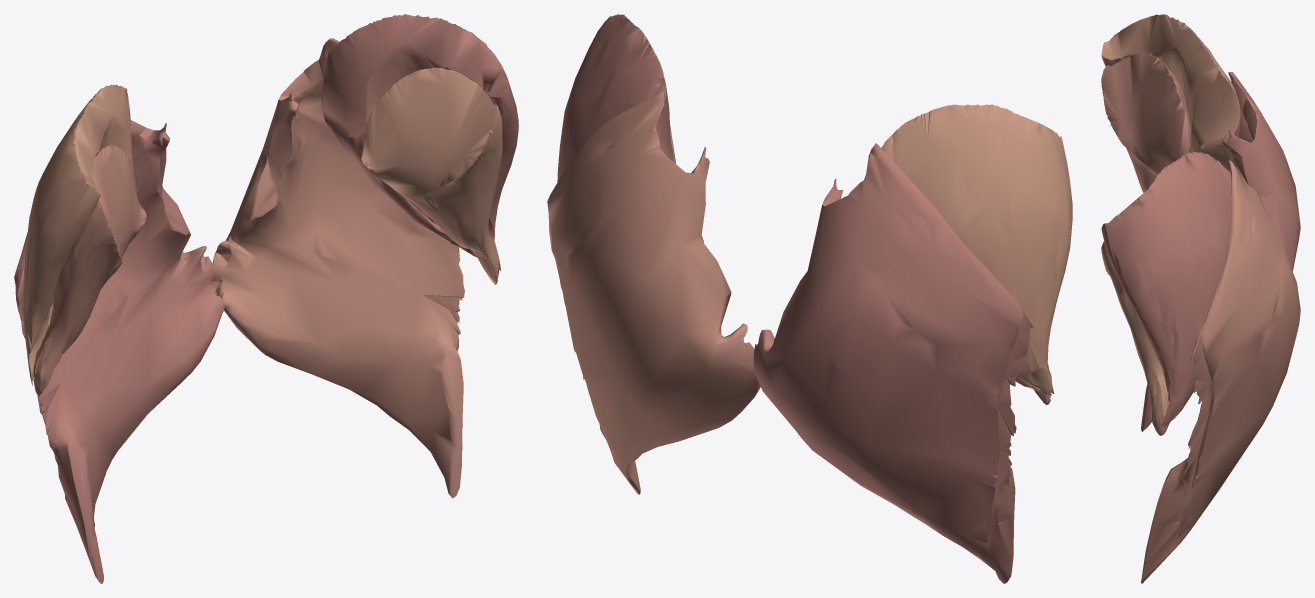
File: gluteal-muscles.glb
The picture shows the model from 3 angles, left to right: view 1: azimuth 30°, elevation 25°; view 2: azimuth 150°, elevation 25°; view 3: azimuth 270°, elevation 25°; orthographic projection. The views are drawn at different scales.
Visible parts, largest first — view 1: FJ1418M Left gluteus maximus, FJ1418 Right gluteus maximus, FJ1420M Left gluteus minimus, FJ1419M Left gluteus medius, FJ1419 Right gluteus medius, FJ1420 Right gluteus minimus; view 2: FJ1418 Right gluteus maximus, FJ1418M Left gluteus maximus, FJ1419 Right gluteus medius, FJ1419M Left gluteus medius; view 3: FJ1418M Left gluteus maximus, FJ1419M Left gluteus medius, FJ1419 Right gluteus medius, FJ1420 Right gluteus minimus, FJ1418 Right gluteus maximus, FJ1420M Left gluteus minimus.
Part boxes in pixels (box(x1,y1,x2,y2)): FJ1418M Left gluteus maximus: box(212, 38, 464, 498); FJ1418 Right gluteus maximus: box(14, 88, 225, 583); FJ1420M Left gluteus minimus: box(361, 67, 502, 284); FJ1419M Left gluteus medius: box(321, 14, 518, 270); FJ1419 Right gluteus medius: box(23, 84, 137, 385); FJ1420 Right gluteus minimus: box(33, 145, 146, 396); FJ1418 Right gluteus maximus: box(753, 143, 1033, 583); FJ1418M Left gluteus maximus: box(547, 91, 760, 494); FJ1419 Right gluteus medius: box(881, 104, 1072, 395); FJ1419M Left gluteus medius: box(557, 14, 674, 182); FJ1418M Left gluteus maximus: box(1141, 160, 1300, 583); FJ1419M Left gluteus medius: box(1101, 152, 1231, 428); FJ1419 Right gluteus medius: box(1101, 14, 1240, 171); FJ1420 Right gluteus minimus: box(1101, 53, 1191, 192); FJ1418 Right gluteus maximus: box(1141, 72, 1300, 431); FJ1420M Left gluteus minimus: box(1101, 241, 1169, 435).
Bounding box in the file's own units: 0.2995 × 0.2832 × 0.1221.
